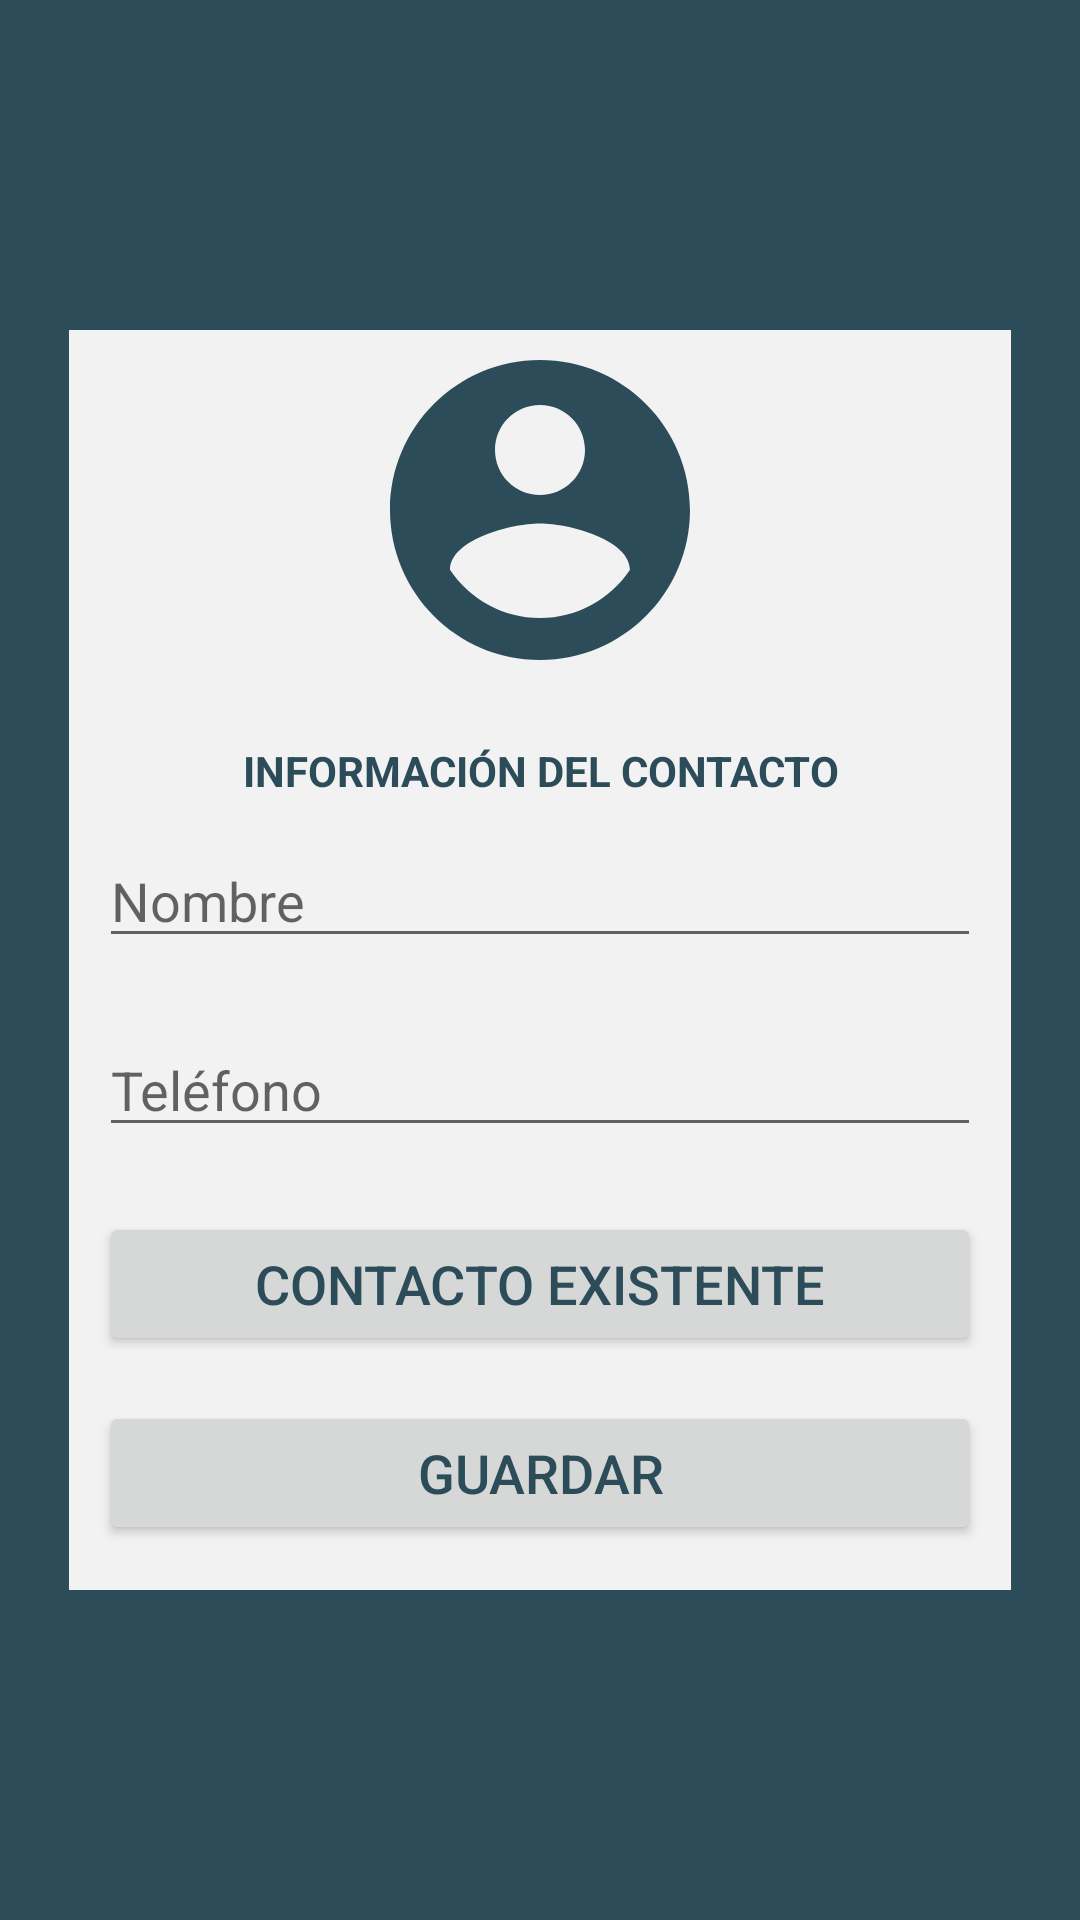

Where to tap for icons on this 1080px×1920px app screen, as (x,y):
account circle: (540,510)
